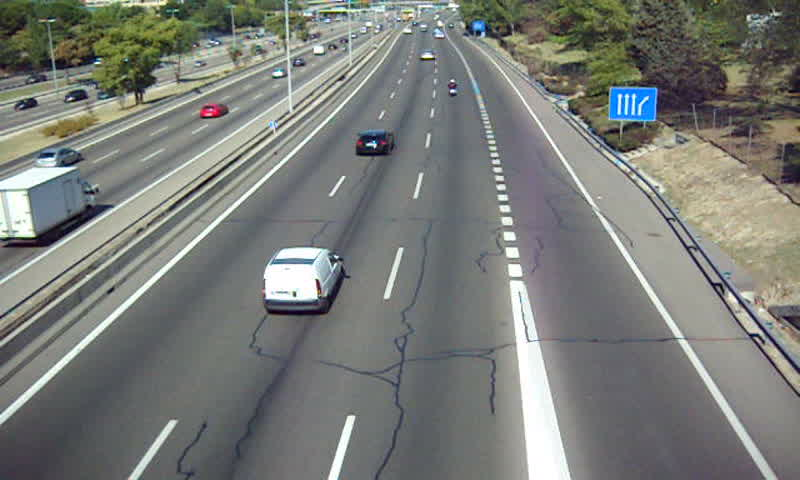car: (353, 132, 393, 158), (419, 52, 435, 62)
motorcycle: (445, 79, 460, 99)
van: (259, 248, 343, 313)
